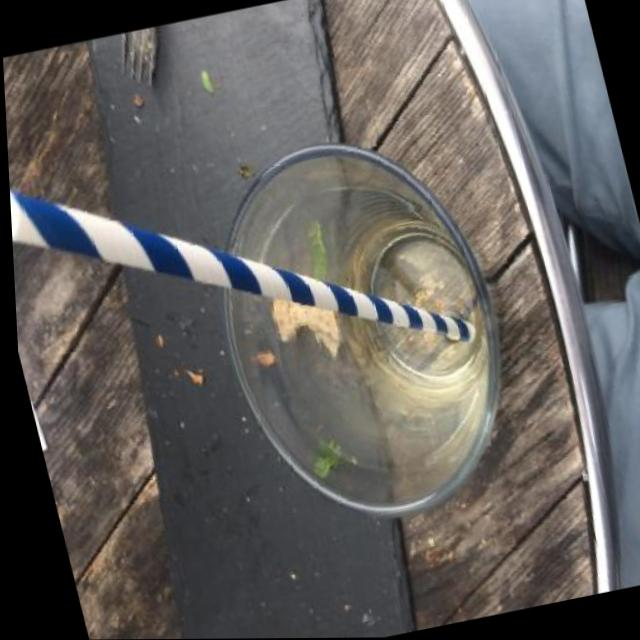plastic: (6, 104, 485, 431)
